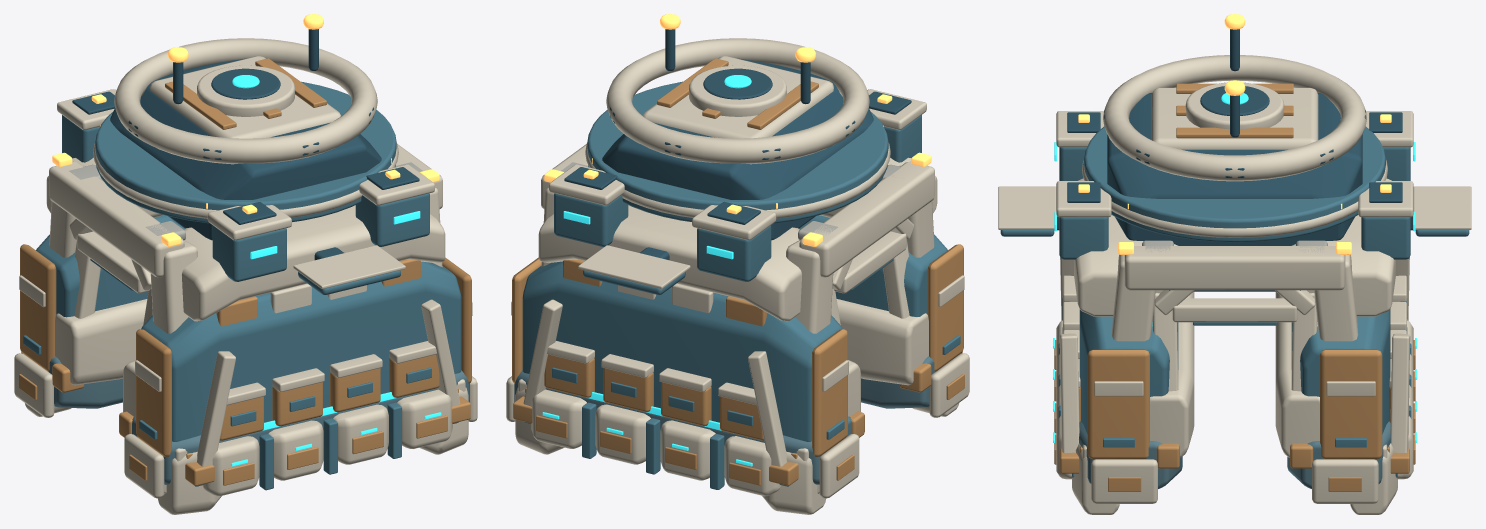
The model's file is auto_explore.glb.
3 views of the same model, side by side, from view 1: azimuth 30°, elevation 25°; view 2: azimuth 150°, elevation 25°; view 3: azimuth 270°, elevation 25° (orthographic).
Visible parts, largest first — view 1: Tapered station pressure wall, Turning observation annulus, Command load saucer, Station elevated command hull, Upper ivory side armor, Cross portal armored lintel, Portal throat stepped inner armor.001, Command deck crown armor, Portal end pressure armor, Portal end pressure armor.002, Tapered station pressure wall.001, Wall borne avionics block (+54 smaller); view 2: Tapered station pressure wall.001, Turning observation annulus, Command load saucer, Station elevated command hull, Upper ivory side armor.001, Cross portal armored lintel, Portal throat stepped inner armor, Command deck crown armor, Portal end pressure armor.002, Portal end pressure armor, Tapered station pressure wall, Wall borne avionics block.002 (+54 smaller); view 3: Turning observation annulus, Station elevated command hull, Cross portal armored lintel.001, Command load saucer, Portal end pressure armor.001, Portal end pressure armor.003, Command deck crown armor, Portal throat stepped inner armor, Portal throat stepped inner armor.001, Tapered station pressure wall.001, Tapered station pressure wall, Upper ivory side armor (+39 smaller).
Boxes of the visible parts, <box> form: Tapered station pressure wall: <box>141,261,461,441</box>; Turning observation annulus: <box>114,38,377,164</box>; Command load saucer: <box>95,81,396,223</box>; Station elevated command hull: <box>110,58,381,240</box>; Upper ivory side armor: <box>182,205,445,321</box>; Cross portal armored lintel: <box>49,161,184,277</box>; Portal throat stepped inner armor.001: <box>55,299,147,385</box>; Command deck crown armor: <box>150,56,340,138</box>; Portal end pressure armor: <box>136,329,171,456</box>; Portal end pressure armor.002: <box>20,244,56,371</box>; Tapered station pressure wall.001: <box>36,215,184,317</box>; Wall borne avionics block: <box>212,225,286,281</box>; Tapered station pressure wall.001: <box>522,261,842,441</box>; Turning observation annulus: <box>606,38,869,164</box>; Command load saucer: <box>587,81,888,223</box>; Station elevated command hull: <box>602,58,873,240</box>; Upper ivory side armor.001: <box>538,205,801,321</box>; Cross portal armored lintel: <box>799,161,934,277</box>; Portal throat stepped inner armor: <box>836,299,928,385</box>; Command deck crown armor: <box>643,56,833,138</box>; Portal end pressure armor.002: <box>812,329,847,456</box>; Portal end pressure armor: <box>927,244,963,371</box>; Tapered station pressure wall: <box>799,215,947,316</box>; Wall borne avionics block.002: <box>697,225,771,281</box>; Turning observation annulus: <box>1103,55,1366,181</box>; Station elevated command hull: <box>1107,93,1362,245</box>; Cross portal armored lintel.001: <box>1124,246,1345,290</box>; Command load saucer: <box>1084,126,1385,242</box>; Portal end pressure armor.001: <box>1087,349,1149,459</box>; Portal end pressure armor.003: <box>1320,349,1382,459</box>; Command deck crown armor: <box>1151,87,1318,149</box>; Portal throat stepped inner armor: <box>1150,291,1194,457</box>; Portal throat stepped inner armor.001: <box>1275,291,1319,457</box>; Tapered station pressure wall.001: <box>1291,309,1390,434</box>; Tapered station pressure wall: <box>1079,309,1178,434</box>; Upper ivory side armor: <box>1074,178,1177,316</box>.
Bounding box in the file's own units: 2.61 × 3 × 3.26.
